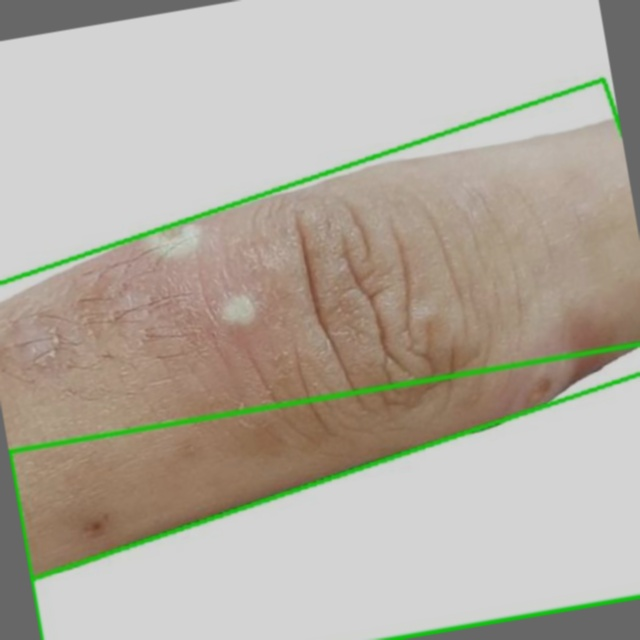Scabies: (0, 80, 639, 581), (9, 345, 639, 639)
